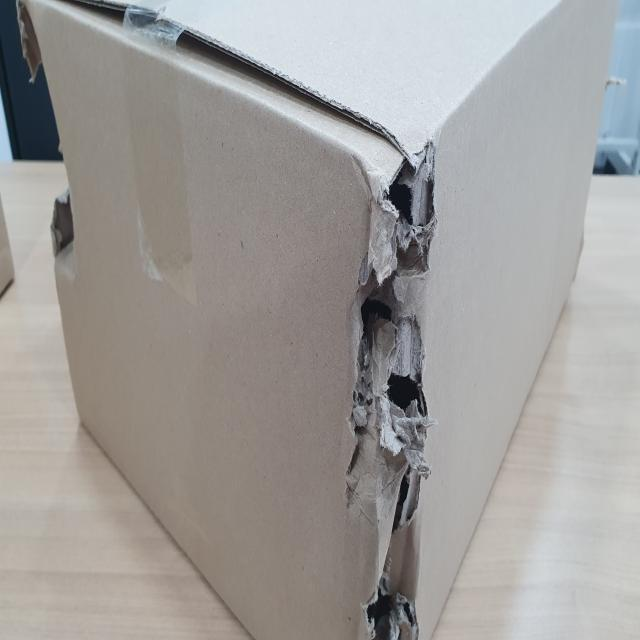hole: (338, 147, 440, 639), (8, 3, 86, 278)
